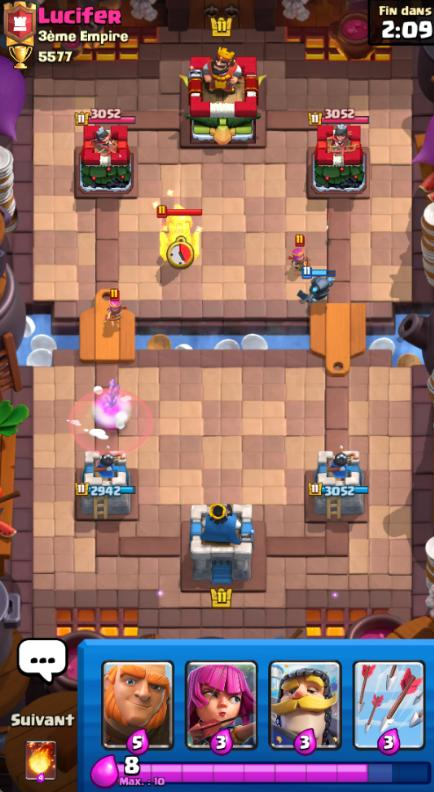archere: (106, 300, 127, 328), (289, 246, 312, 270)
mini_PEKKA: (298, 276, 335, 306)
